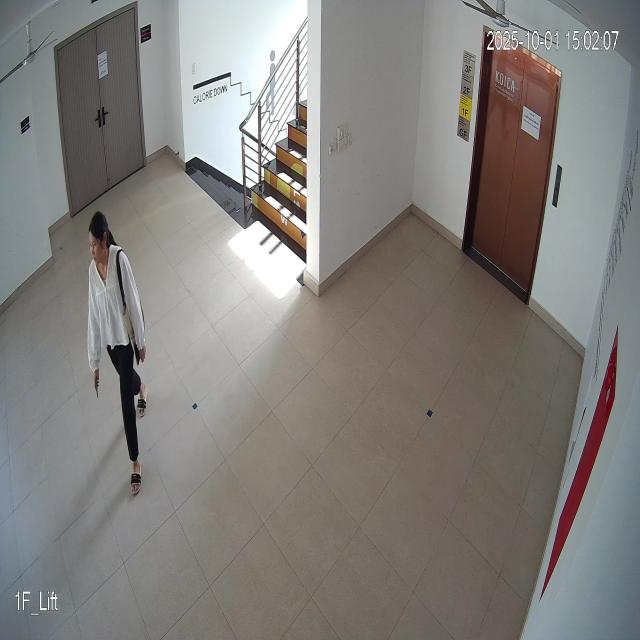face: (83, 209, 112, 267)
